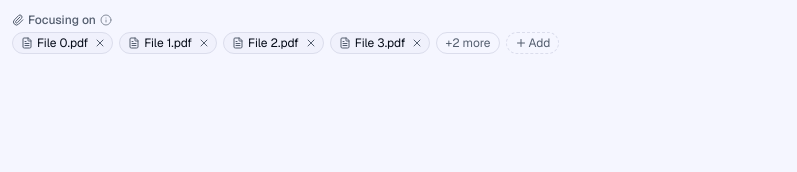
it: ChatFocusFiles › caps visible chips and expands on "+N more"
Expected: the number of elements with test id "chat-focus-chip" is 4, [12,32,113,54]; [119,32,217,54]; [223,32,324,54]; [330,32,430,54]
Click the button "+2 more": [468, 43] box [436,32,500,54]
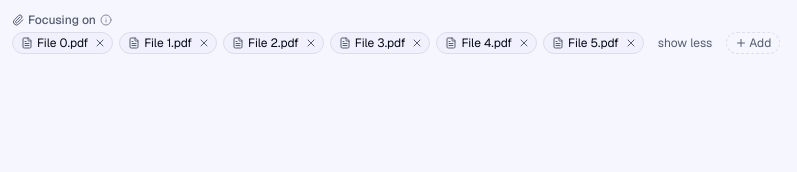
Expected: the number of elements with test id "chat-focus-chip" is 6, [12,32,113,54]; [119,32,217,54]; [223,32,324,54]; [330,32,430,54]; [436,32,537,54]; [543,32,644,54]
Expected: the button "show less" is shown, [650,33,720,53]
